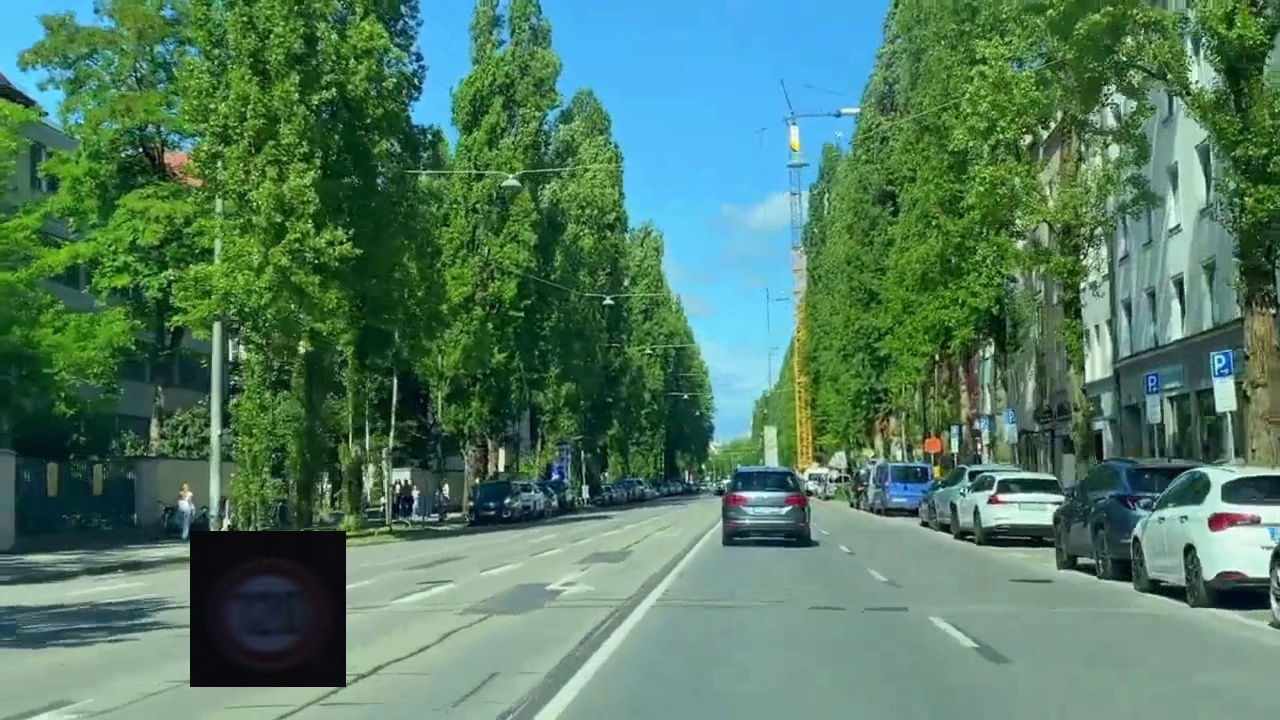Speed 120: (190, 531, 346, 687)
